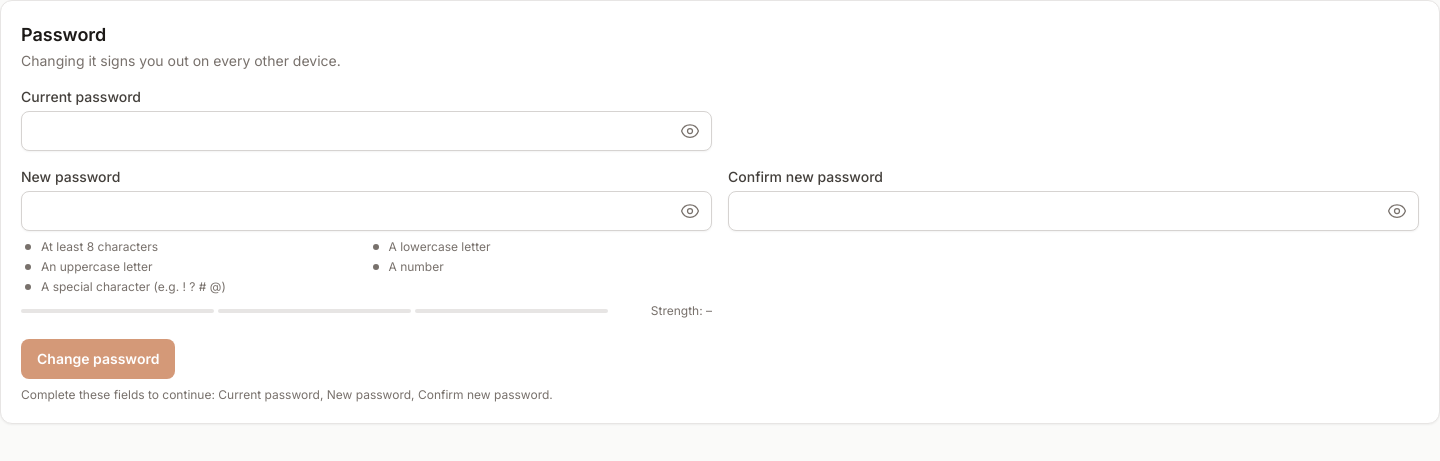
Test: ChangePasswordForm — live feedback › updates the requirement checklist and strength as you type
Type "abcdefgh" into the password field labelled "New password". click: (366, 211)
box: [21, 191, 712, 231]
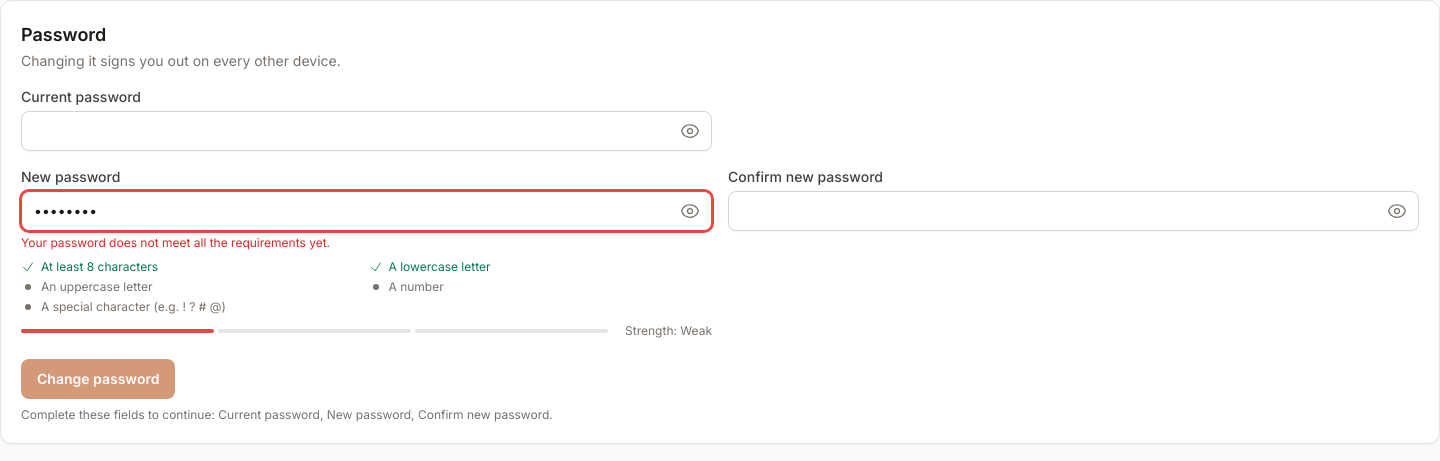
Expected: the text "Strength: Weak" is shown, [616, 323, 712, 339]
Type "A1!xyzw" into the password field labelled "New password". click: (366, 211)
box: [21, 191, 712, 231]
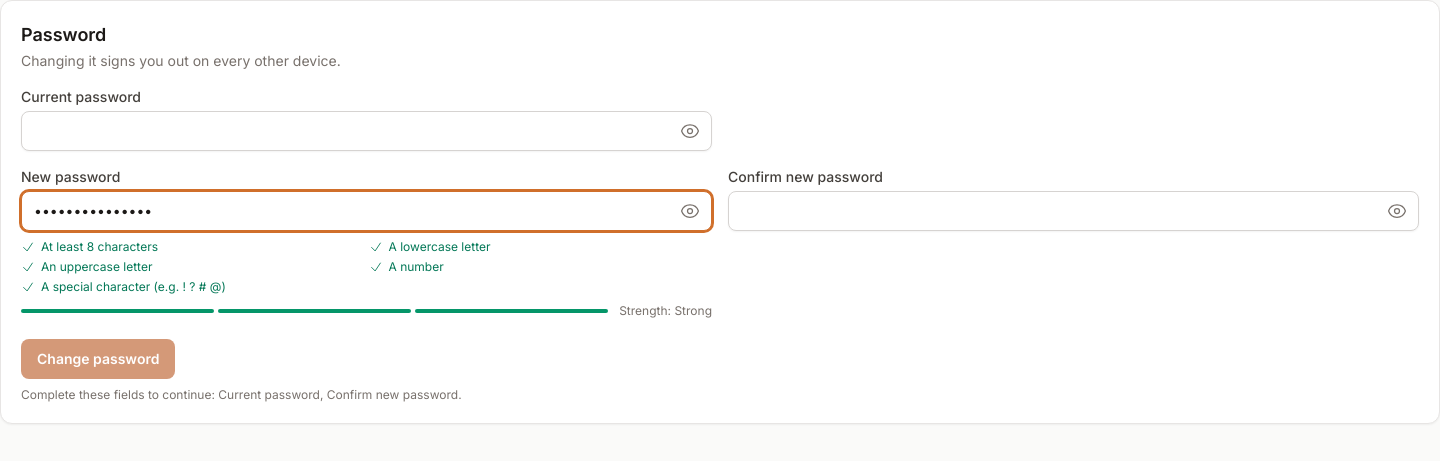
Expected: the text "Strength: Strong" is shown, [616, 303, 712, 319]
